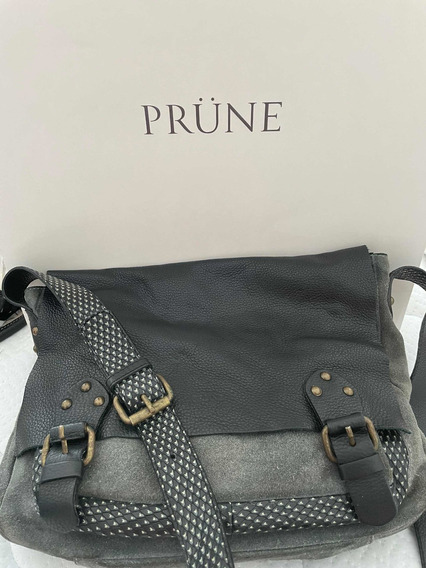cartera: (2, 246, 426, 566)
